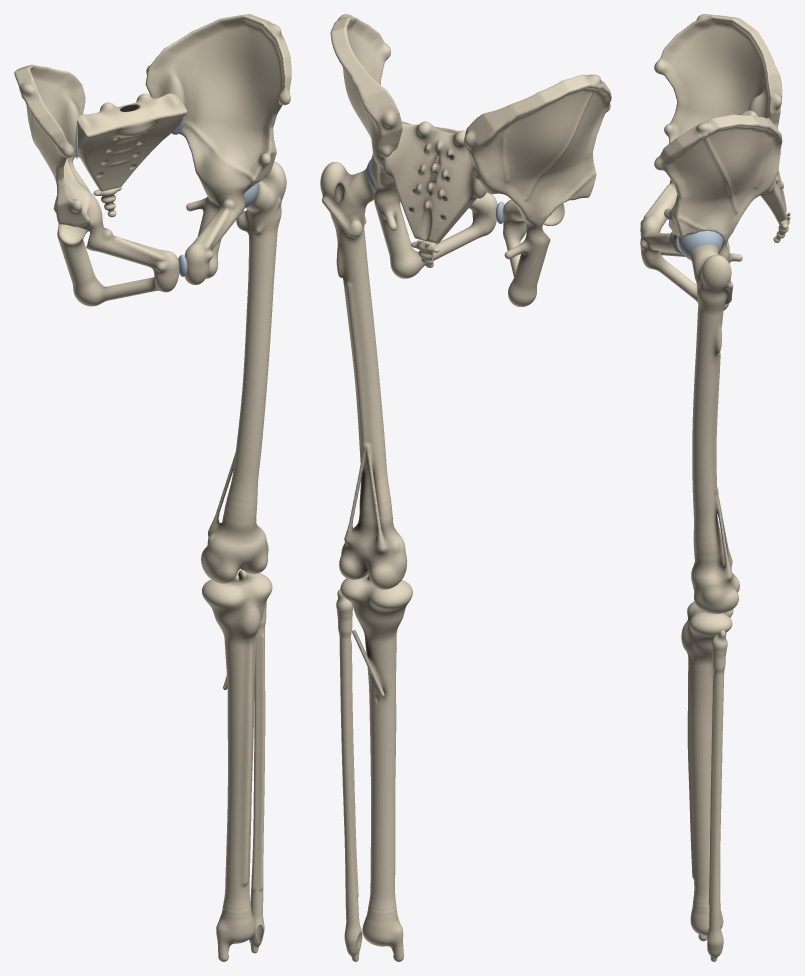
File: cadera-articulacion.glb
3 renders of one model, left to right at view 1: azimuth 30°, elevation 25°; view 2: azimuth 150°, elevation 25°; view 3: azimuth 270°, elevation 25°, orthographic. The views are drawn at different scales.
Visible parts, largest first — view 1: ilium_L, femur_L_shaft, ilium_R, tibia_L_medial_surface, pubis_R, pubis_L, ischium_R, sacrum_ala, fibula_L_medial_surface, femur_L_neck, femur_L_patellar_surface, tibia_L_anterior_crest (+12 smaller); view 2: ilium_R, femur_L_shaft, tibia_L_posterior_surface, ilium_L, ischium_L, fibula_L_medial_surface, ischium_R, tibia_L_medial_surface, sacrum_lateral_crests, pubis_L, fibula_L_lateral_surface, sacrum_S5 (+11 smaller); view 3: ilium_L, ilium_R, femur_L_shaft, tibia_L_lateral_surface, fibula_L_lateral_surface, pubis_L, femur_L_greater_trochanter, tibia_L_posterior_surface, pubis_R, femur_L_neck, tibia_L_lateral_condyle, femur_L_lateral_condyle (+6 smaller).
Part boxes in pixels (x1,y1,x2,y2): ilium_L: (145,14,291,190); femur_L_shaft: (205,235,277,568); ilium_R: (14,64,102,228); tibia_L_medial_surface: (212,609,249,929); pubis_R: (82,218,179,299); pubis_L: (184,187,250,284); ischium_R: (55,210,118,306); sacrum_ala: (77,94,187,151); fibula_L_medial_surface: (250,620,261,927); femur_L_neck: (246,178,281,240); femur_L_patellar_surface: (223,531,266,581); tibia_L_anterior_crest: (243,640,252,884); ilium_R: (463,74,611,218); femur_L_shaft: (336,232,406,570); tibia_L_posterior_surface: (352,605,398,930); ilium_L: (330,14,402,182); ischium_L: (372,175,443,278); fibula_L_medial_surface: (342,615,360,937); ischium_R: (504,213,550,306); tibia_L_medial_surface: (390,608,405,926); sacrum_lateral_crests: (388,133,475,215); pubis_L: (434,192,497,256); fibula_L_lateral_surface: (337,615,350,936); sacrum_S5: (399,196,465,243); ilium_L: (654,114,782,237); ilium_R: (654,14,782,143); femur_L_shaft: (692,312,732,594); tibia_L_lateral_surface: (687,634,712,921); fibula_L_lateral_surface: (707,653,726,944); pubis_L: (640,230,690,295); femur_L_greater_trochanter: (700,255,731,305); tibia_L_posterior_surface: (705,633,726,916); pubis_R: (640,179,685,256); femur_L_neck: (690,247,728,315); tibia_L_lateral_condyle: (687,609,732,640); femur_L_lateral_condyle: (696,585,738,613).
Size of the model in its own units: 0.2999 by 0.9947 by 0.1598.
